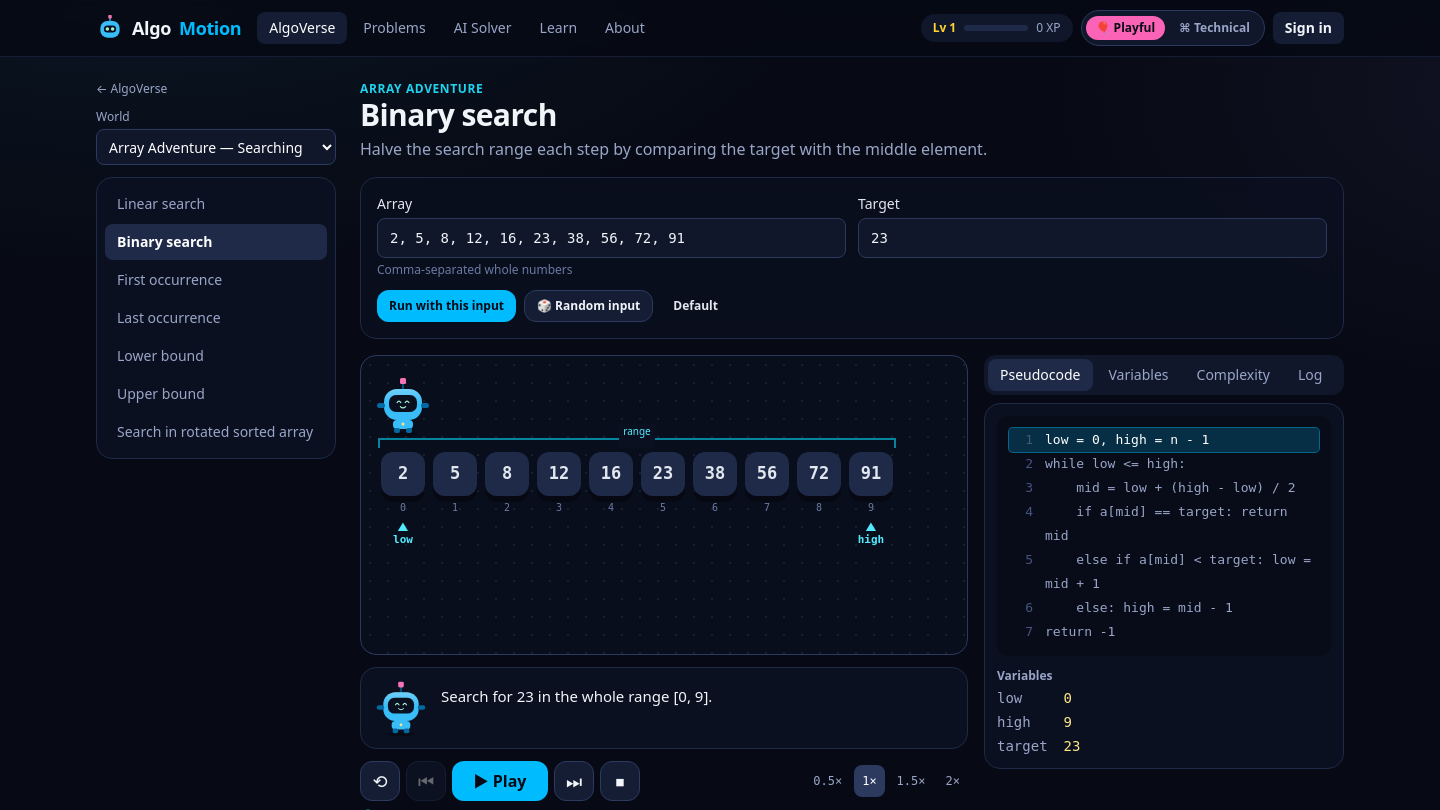
it: navigation › shows input errors for invalid binary search input instead of a broken animation
This screenshot has width=1440, height=810.
Step 1. Replace the text in the field labelled "Array" with "9, 3, 1" → (612,238), box 377,218 -> 846,258
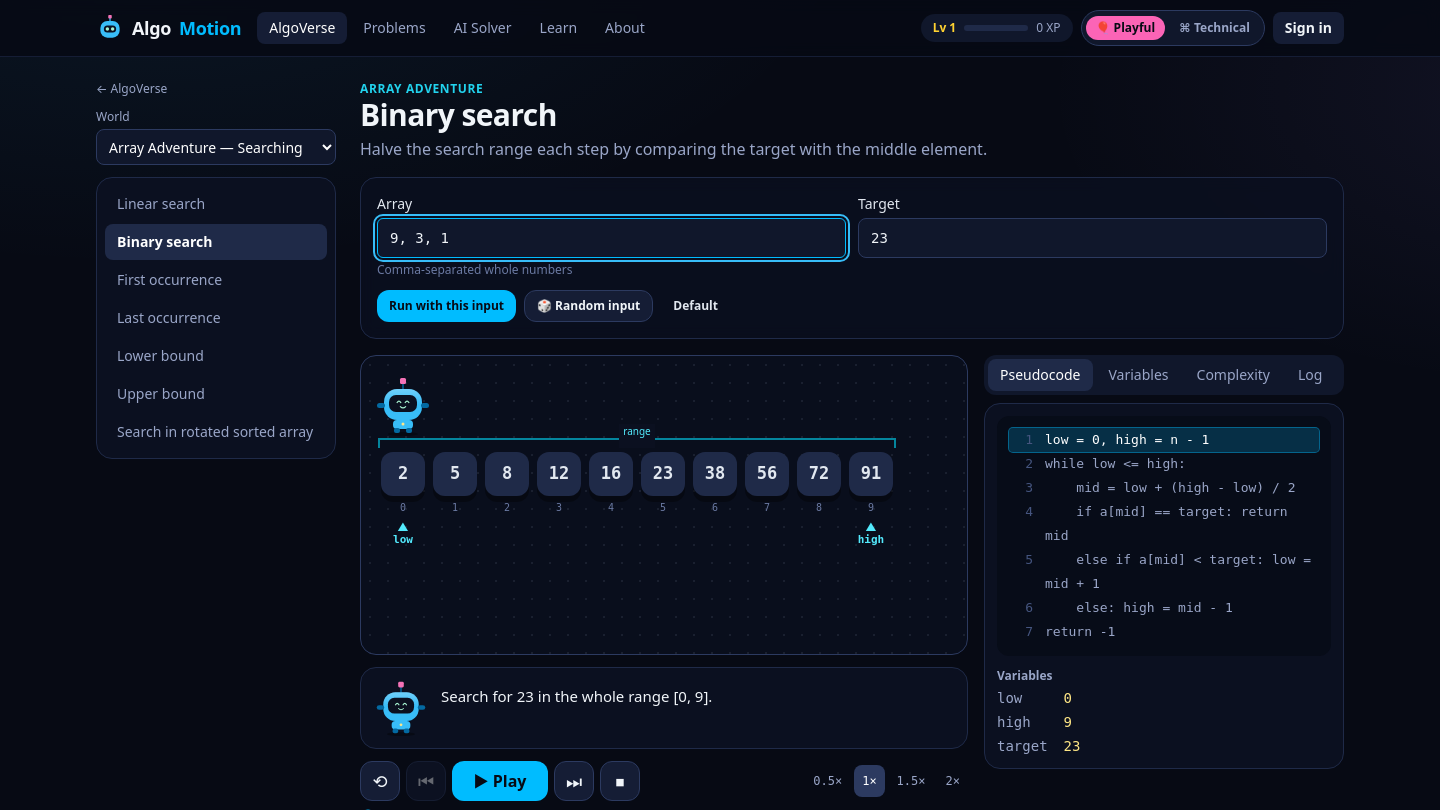
Step 2. Click the button "Run with this input" → (446,306), box 377,290 -> 516,322
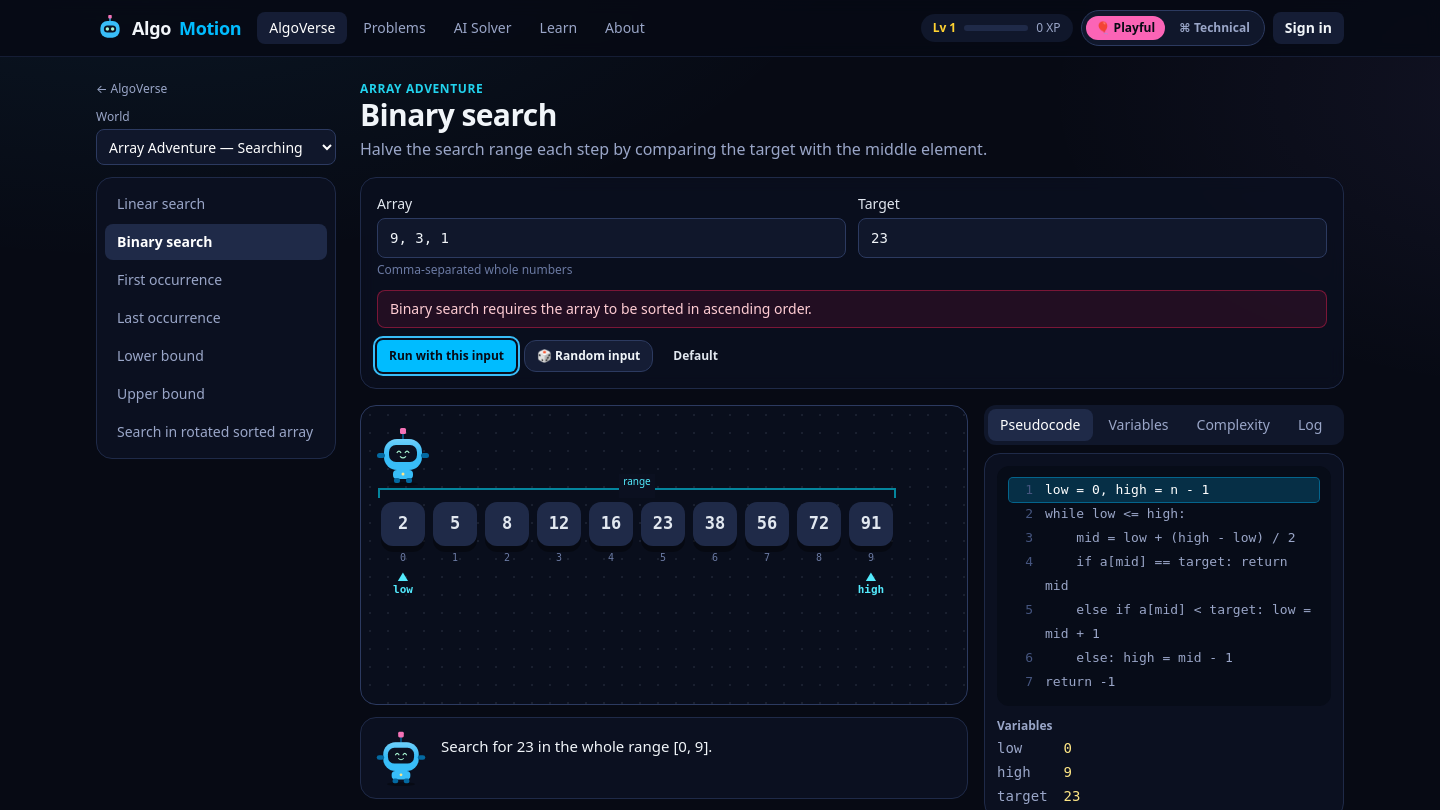
Check: the message with test id "input-error" shows "sorted", box 390,299 -> 812,318
